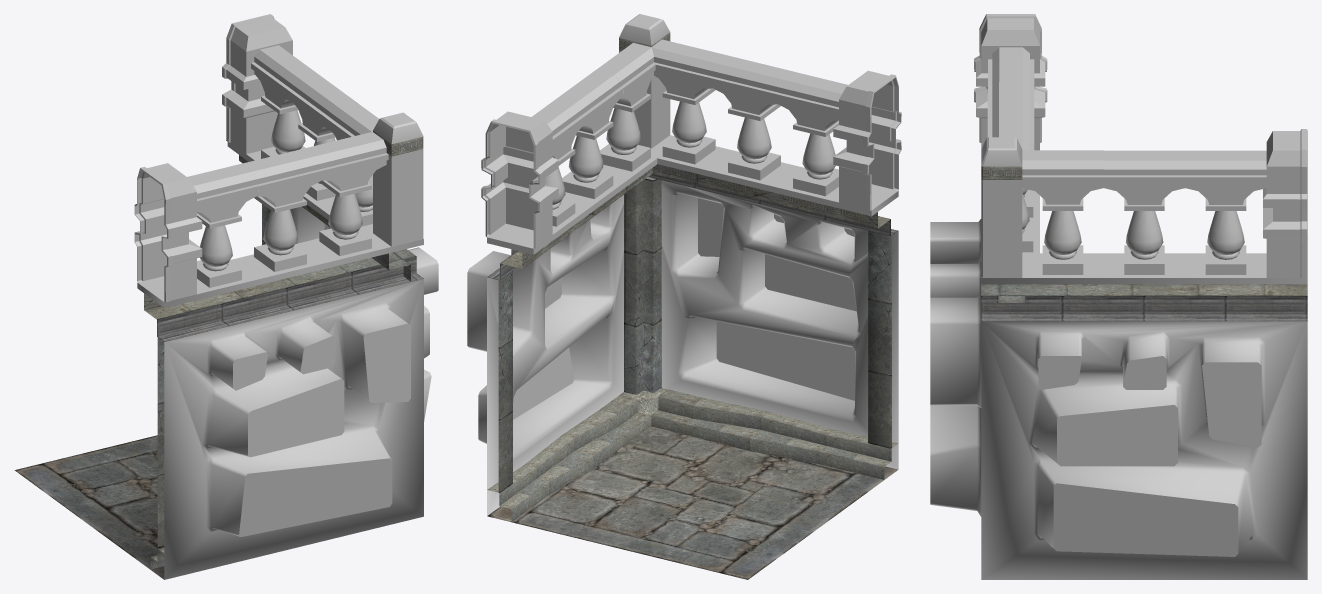
Rendered from UnderCorner3.FBX.
The picture shows the model from 3 angles, left to right: view 1: azimuth 30°, elevation 25°; view 2: azimuth 150°, elevation 25°; view 3: azimuth 270°, elevation 25°; orthographic projection. The views are drawn at different scales.
Parts seen in each view (by area): view 1: Object199; view 2: Object199; view 3: Object199.
Boxes of the visible parts, x1,y1,x2,y2 form: Object199: (14,14,438,579); Object199: (467,14,901,579); Object199: (930,14,1307,579).
Bounding box in the file's own units: 578 × 725 × 578.
